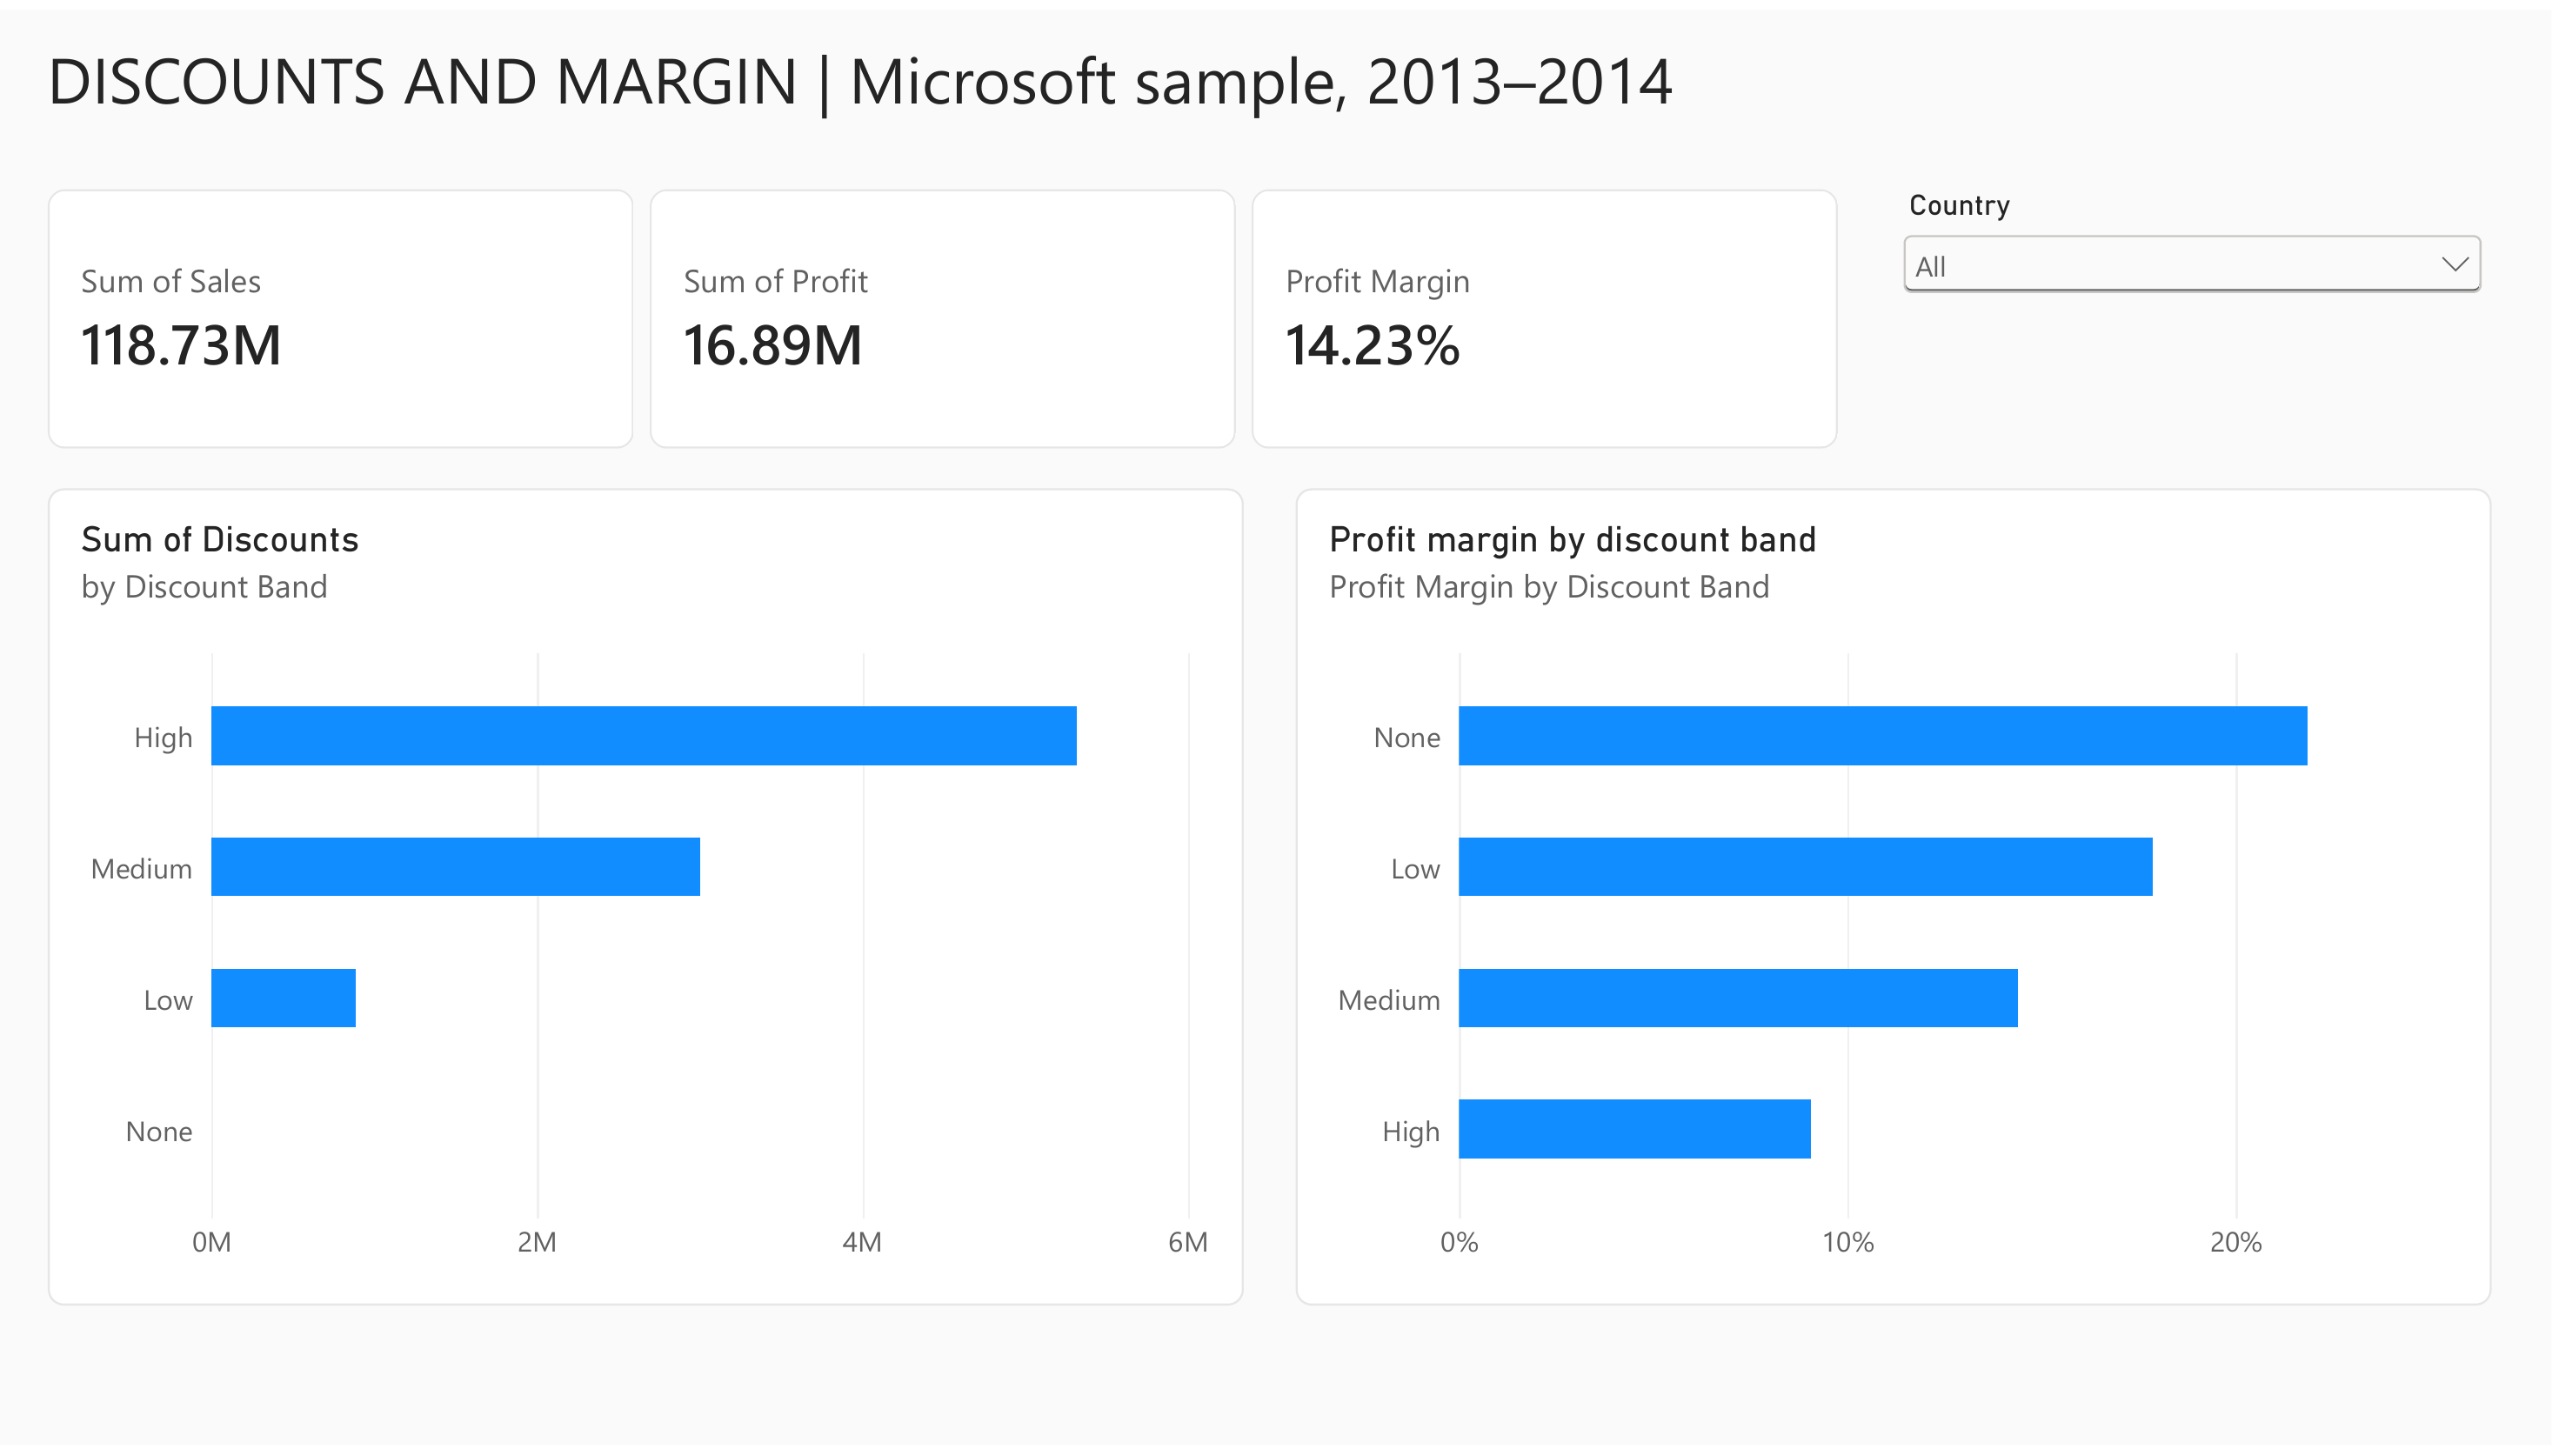

Layout of this report page (visuals, bound fields, positions):
{"tool":"powerbi","page":{"name":"03 Discounts and Margin","canvas":[1280,720],"ordinal":2},"visuals":[{"type":"cardVisual","fields":{"Data":["Sum(financials.Sales)","Sum(financials.Profit)","financials.Profit Margin"]},"box":[24,90,900,130],"z":0},{"type":"clusteredBarChart","fields":{"Category":["financials.Discount Band"],"Y":["Sum(financials.Discounts)"]},"box":[24,240,600,410],"z":1000},{"type":"clusteredBarChart","title":"Profit margin by discount band","fields":{"Category":["financials.Discount Band"],"Y":["financials.Profit Margin"]},"box":[650,240,600,410],"z":2000},{"type":"textbox","box":[24,12,1230,72],"z":3000},{"type":"slicer","fields":{"Values":["financials.Country"]},"box":[950,90,300,130],"z":4000}]}

Visuals, with their boxes in screenshot pixels (x1, y1, x2, y2), scaled from the page's 1280x720 canvas onto the 2552x1456 screenshot:
cardVisual - Sum(financials.Sales) x Sum(financials.Profit): rect(48, 182, 1842, 445)
clusteredBarChart - financials.Discount Band x Sum(financials.Discounts): rect(48, 485, 1244, 1314)
"Profit margin by discount band" clusteredBarChart: rect(1296, 485, 2492, 1314)
textbox: rect(48, 24, 2500, 170)
slicer - financials.Country: rect(1894, 182, 2492, 445)
